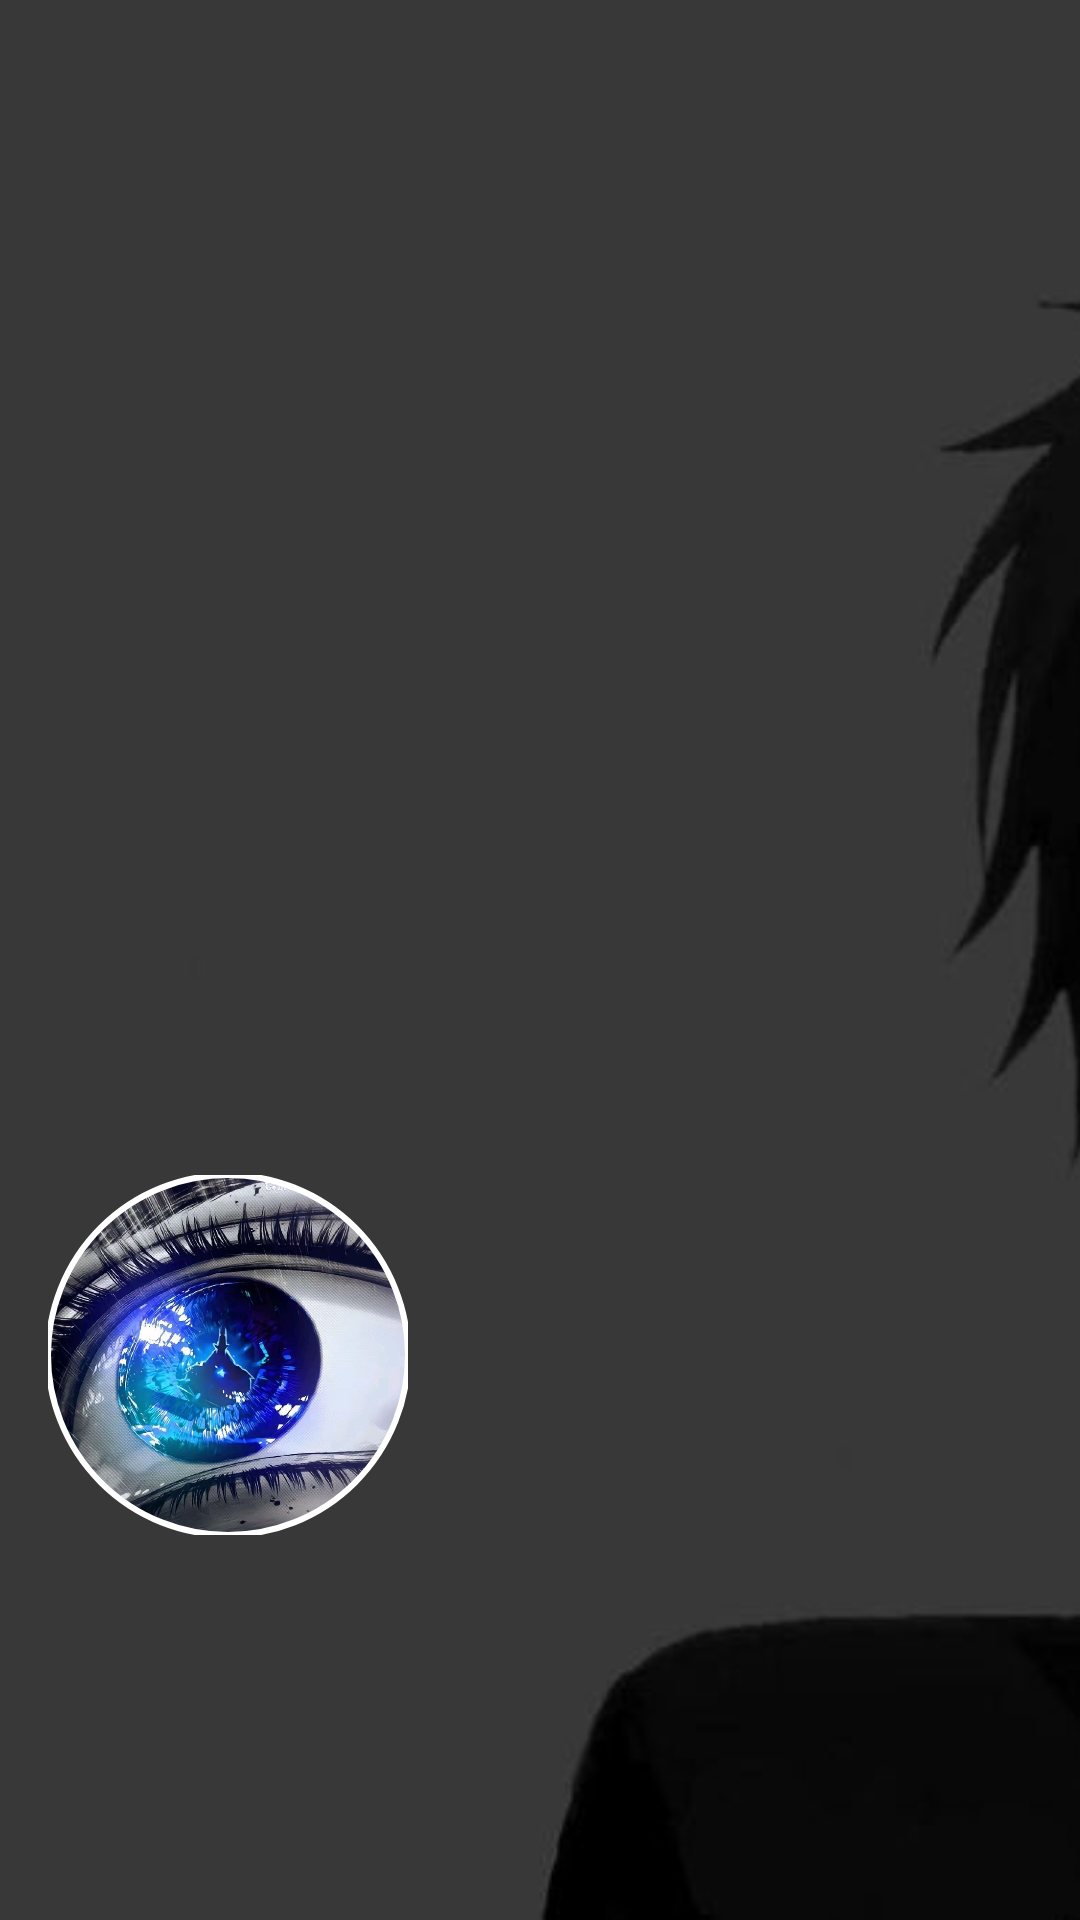

Icon click points for this 1080*1920 phone screenshot, format (x,y):
ava: (228,1355)
